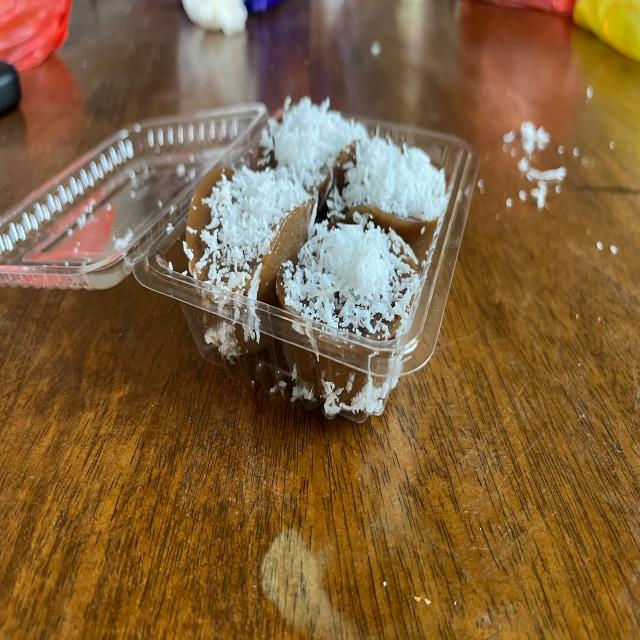Kuih lompang: (182, 164, 316, 382), (278, 216, 420, 340), (328, 136, 448, 262), (260, 98, 368, 207), (284, 344, 396, 416)
